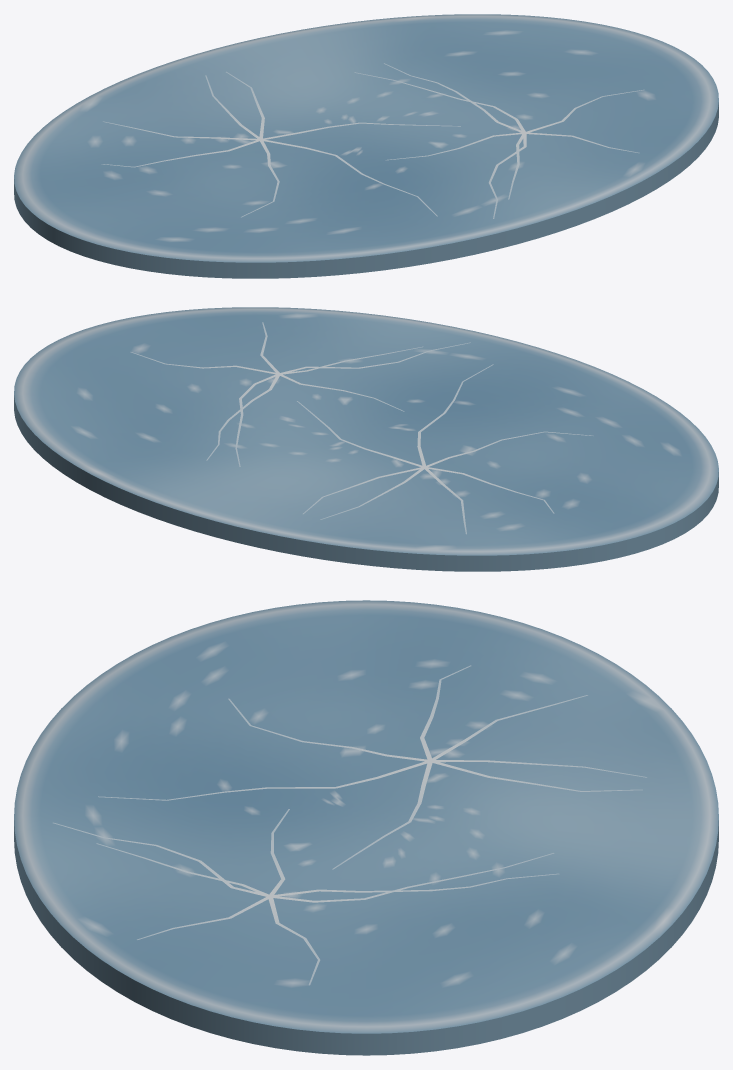
File: Xmas_Ice.fbx
3 renders of one model, top to bottom at view 1: azimuth 30°, elevation 25°; view 2: azimuth 150°, elevation 25°; view 3: azimuth 270°, elevation 25°, orthographic. The views are drawn at different scales.
Parts seen in each view (by area): view 1: Xmas_Ice; view 2: Xmas_Ice; view 3: Xmas_Ice.
Part boxes in pixels (x1,y1,x2,y2): Xmas_Ice: (14, 14, 718, 278); Xmas_Ice: (14, 307, 718, 571); Xmas_Ice: (14, 600, 718, 1055).
Bounding box in the file's own units: 32 × 0.812 × 22.
